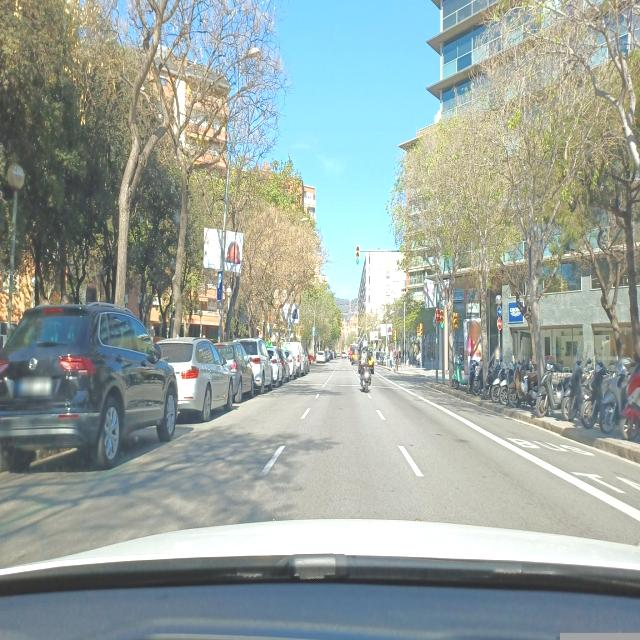bike: (598, 358, 640, 434), (579, 359, 614, 428), (620, 352, 640, 444), (359, 363, 372, 393)
car: (0, 301, 179, 474), (158, 336, 234, 422), (213, 340, 255, 403), (237, 337, 273, 394), (265, 346, 284, 386), (286, 340, 305, 377), (276, 347, 290, 383), (284, 348, 298, 379), (350, 346, 360, 366), (316, 349, 326, 363), (328, 348, 334, 359)
